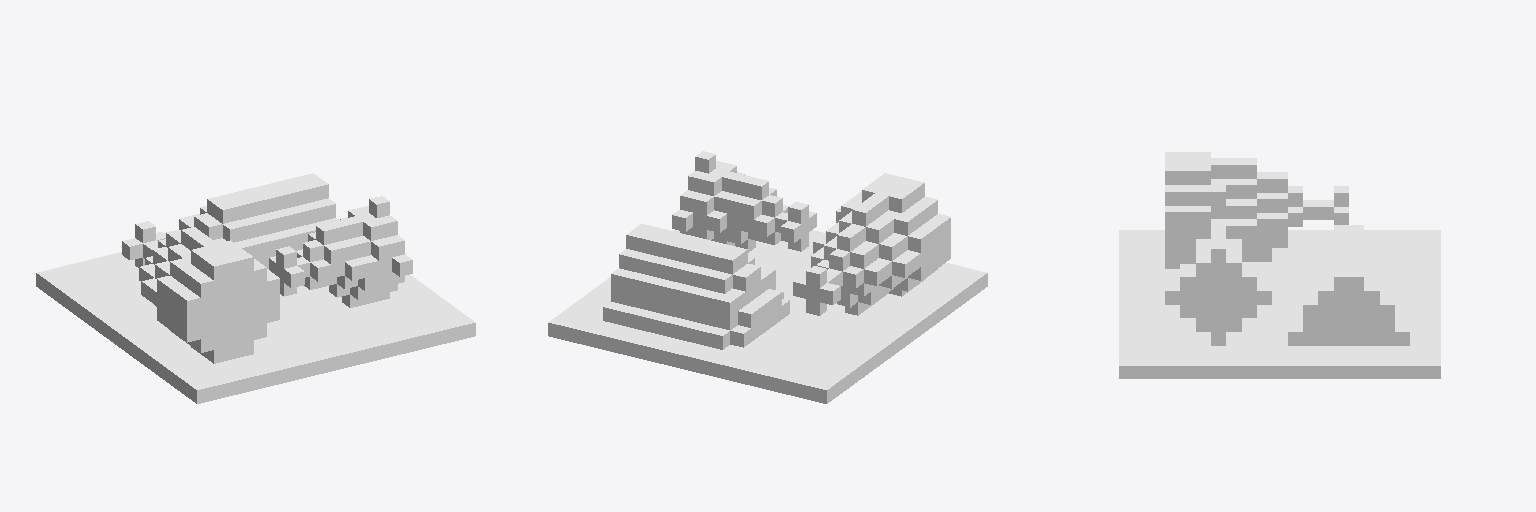
The model's file is MeatPlate.obj.
The picture shows the model from 3 angles: view 1: azimuth 30°, elevation 25°; view 2: azimuth 150°, elevation 25°; view 3: azimuth 270°, elevation 25°; orthographic projection.
Size of the model in its own units: 21 by 8 by 21.